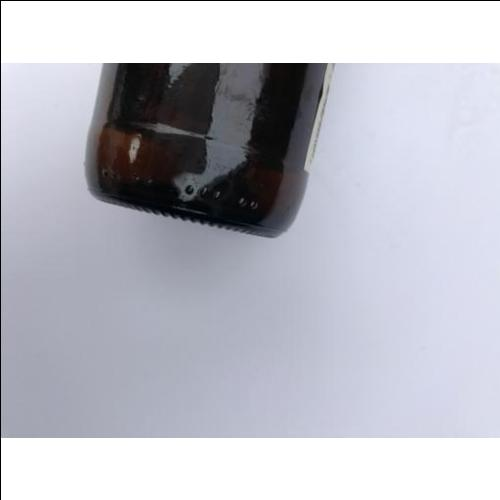glass: (89, 67, 328, 239)
